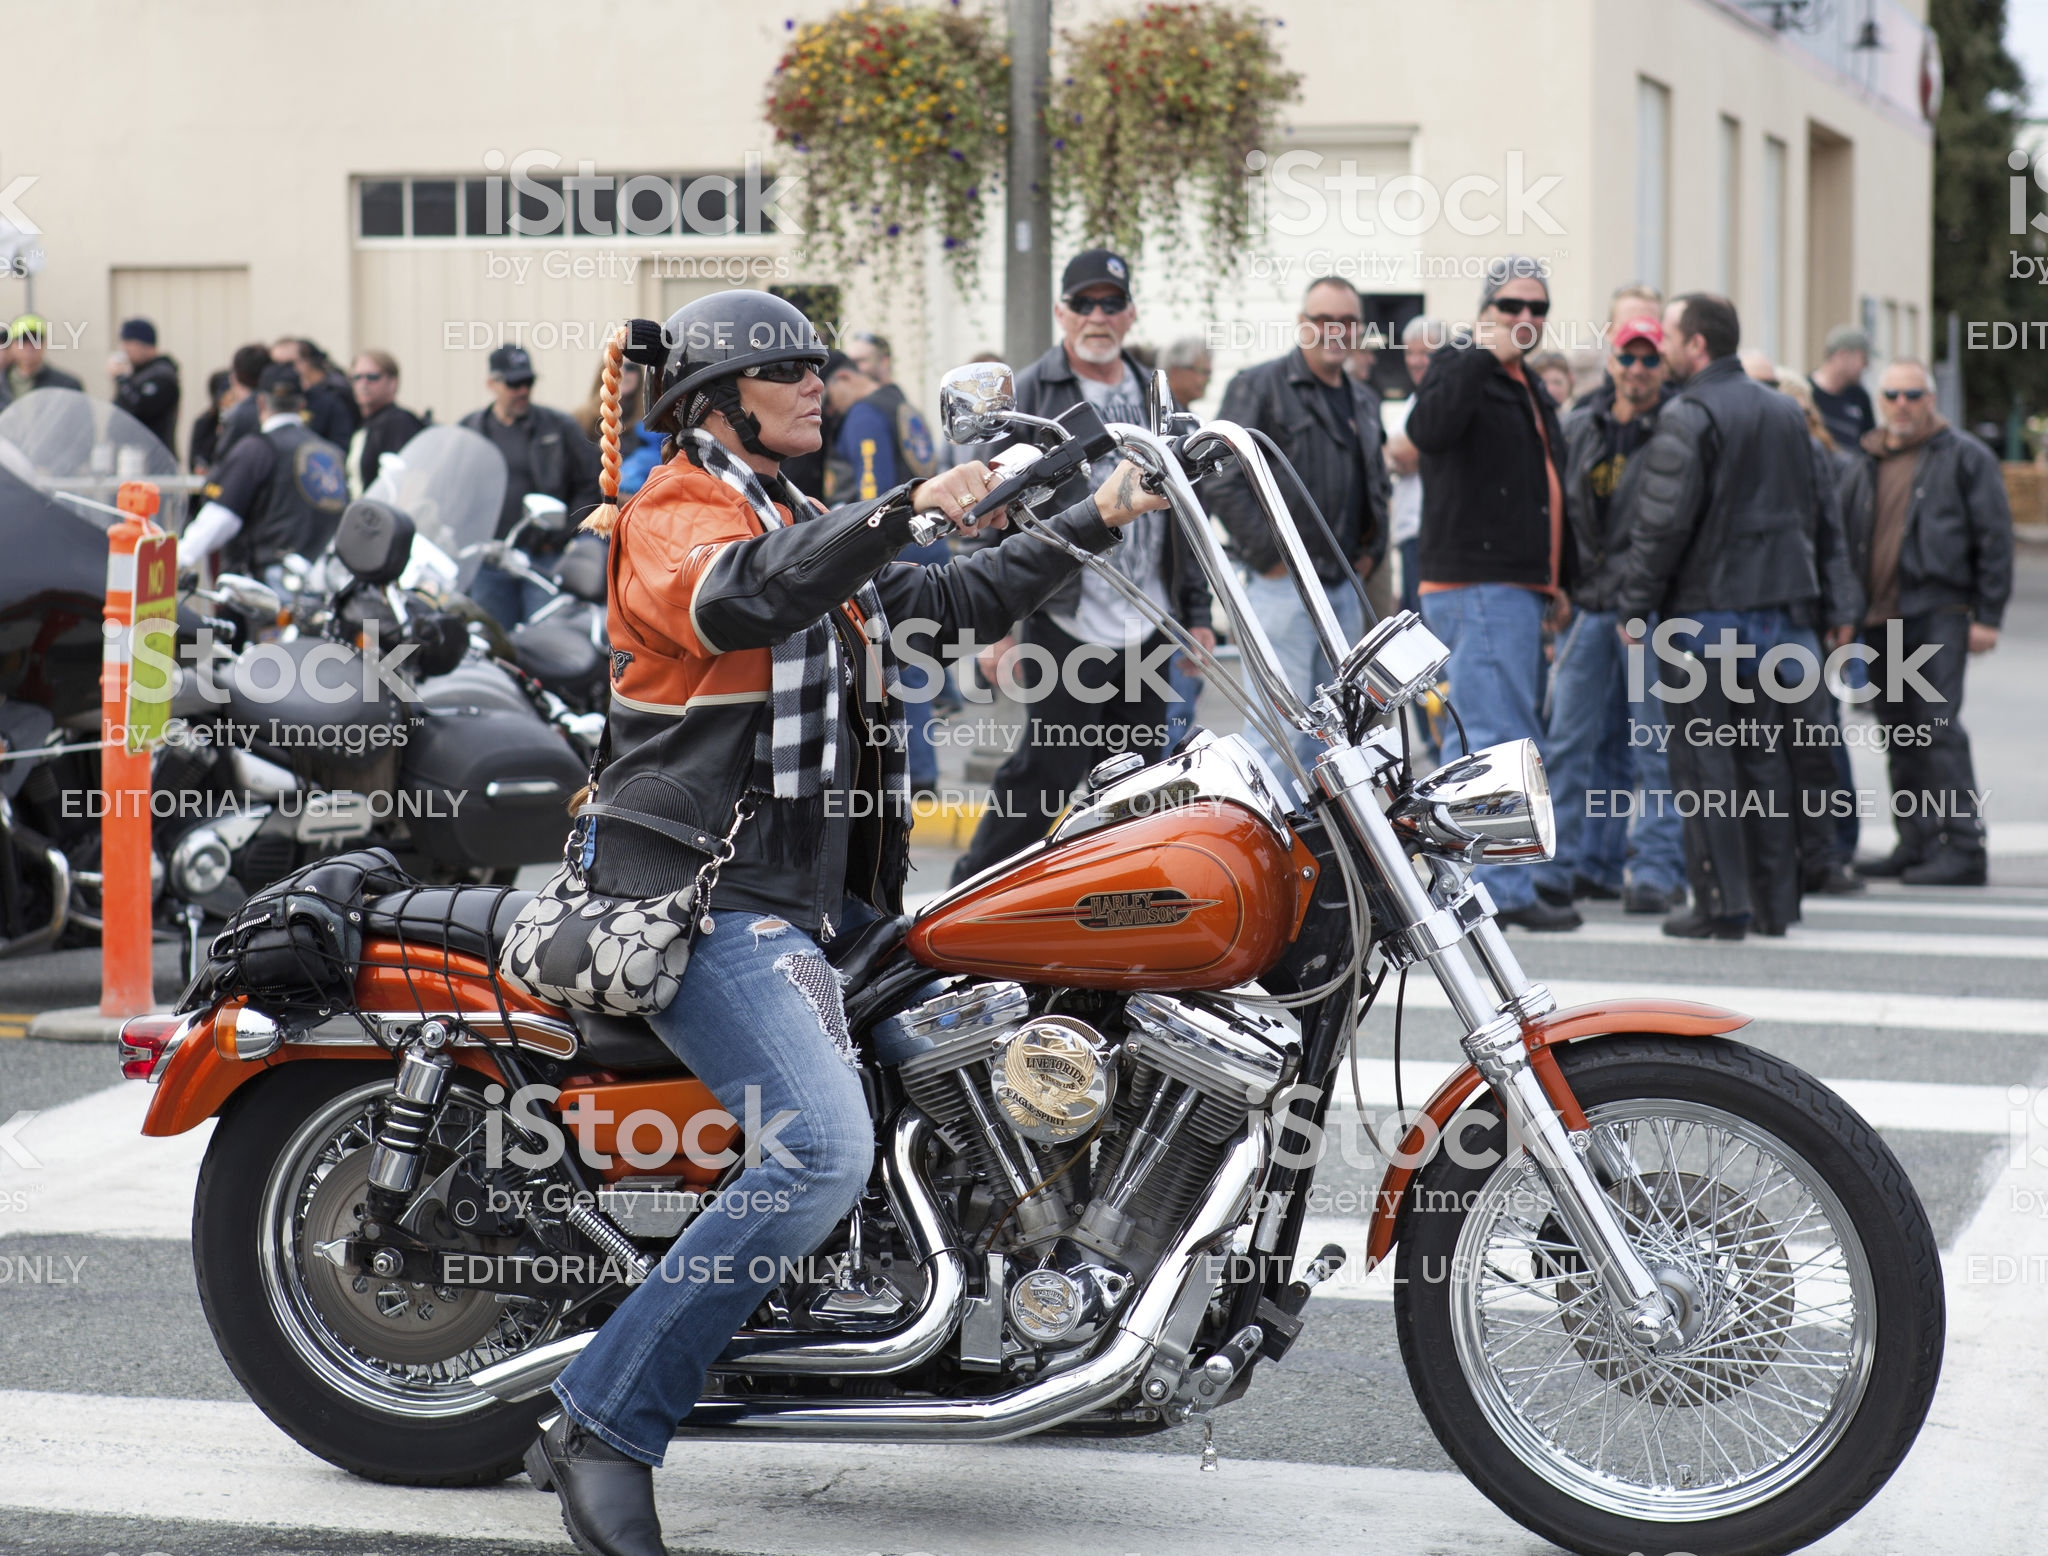helmet: (628, 283, 829, 369)
